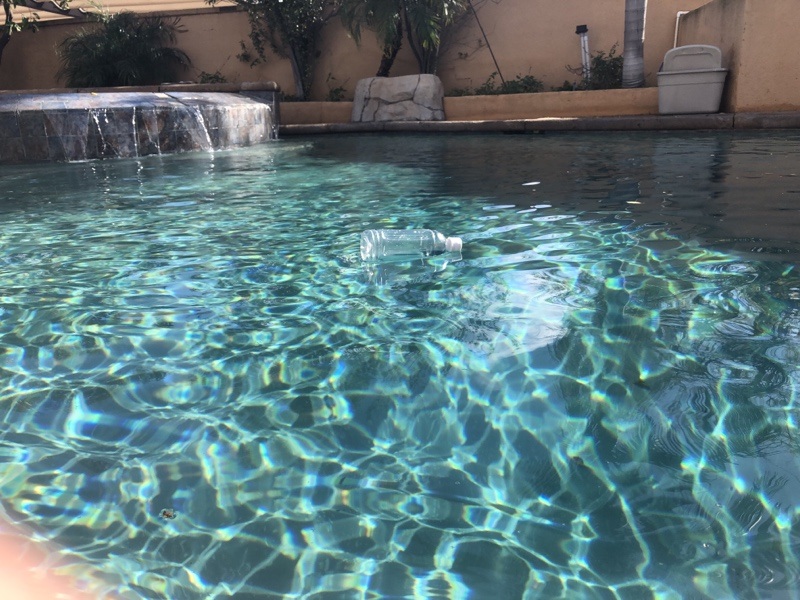Plastic Bottle: (357, 221, 464, 262)
